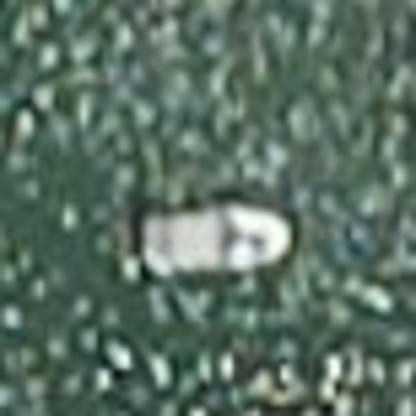ship: (127, 190, 306, 280)
